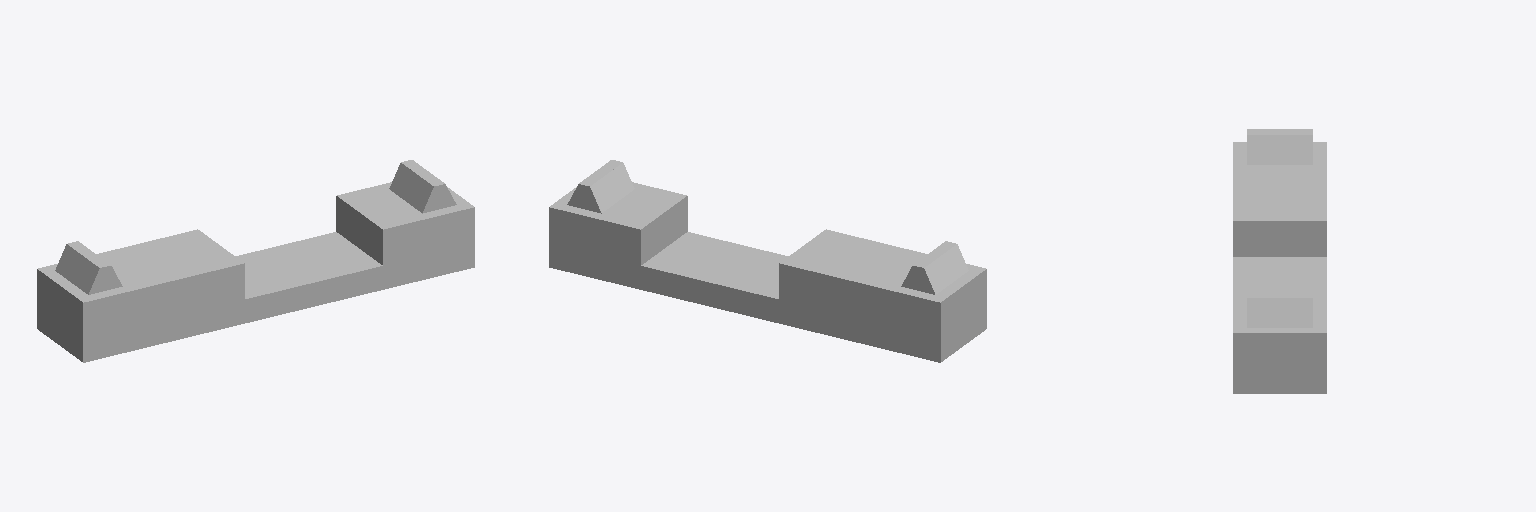
Rendered from GunSlide Centerstage.obj.
3 views of the same model, side by side, from view 1: azimuth 30°, elevation 25°; view 2: azimuth 150°, elevation 25°; view 3: azimuth 270°, elevation 25° (orthographic).
Parts seen in each view (by area): view 1: Gunslide1; view 2: Gunslide1; view 3: Gunslide1.
Part boxes in pixels (bbox=[...]): Gunslide1: bbox=[37, 160, 474, 362]; Gunslide1: bbox=[549, 160, 986, 362]; Gunslide1: bbox=[1233, 129, 1326, 393].
Bounding box in the file's own units: 1.7 × 0.35 × 0.35.